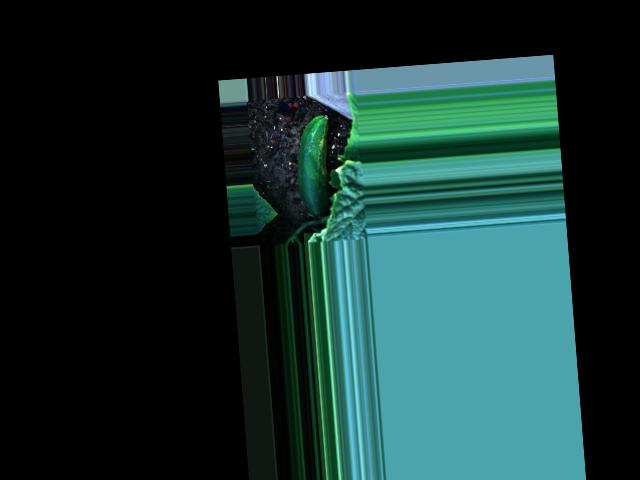cucumber: (293, 114, 336, 217)
